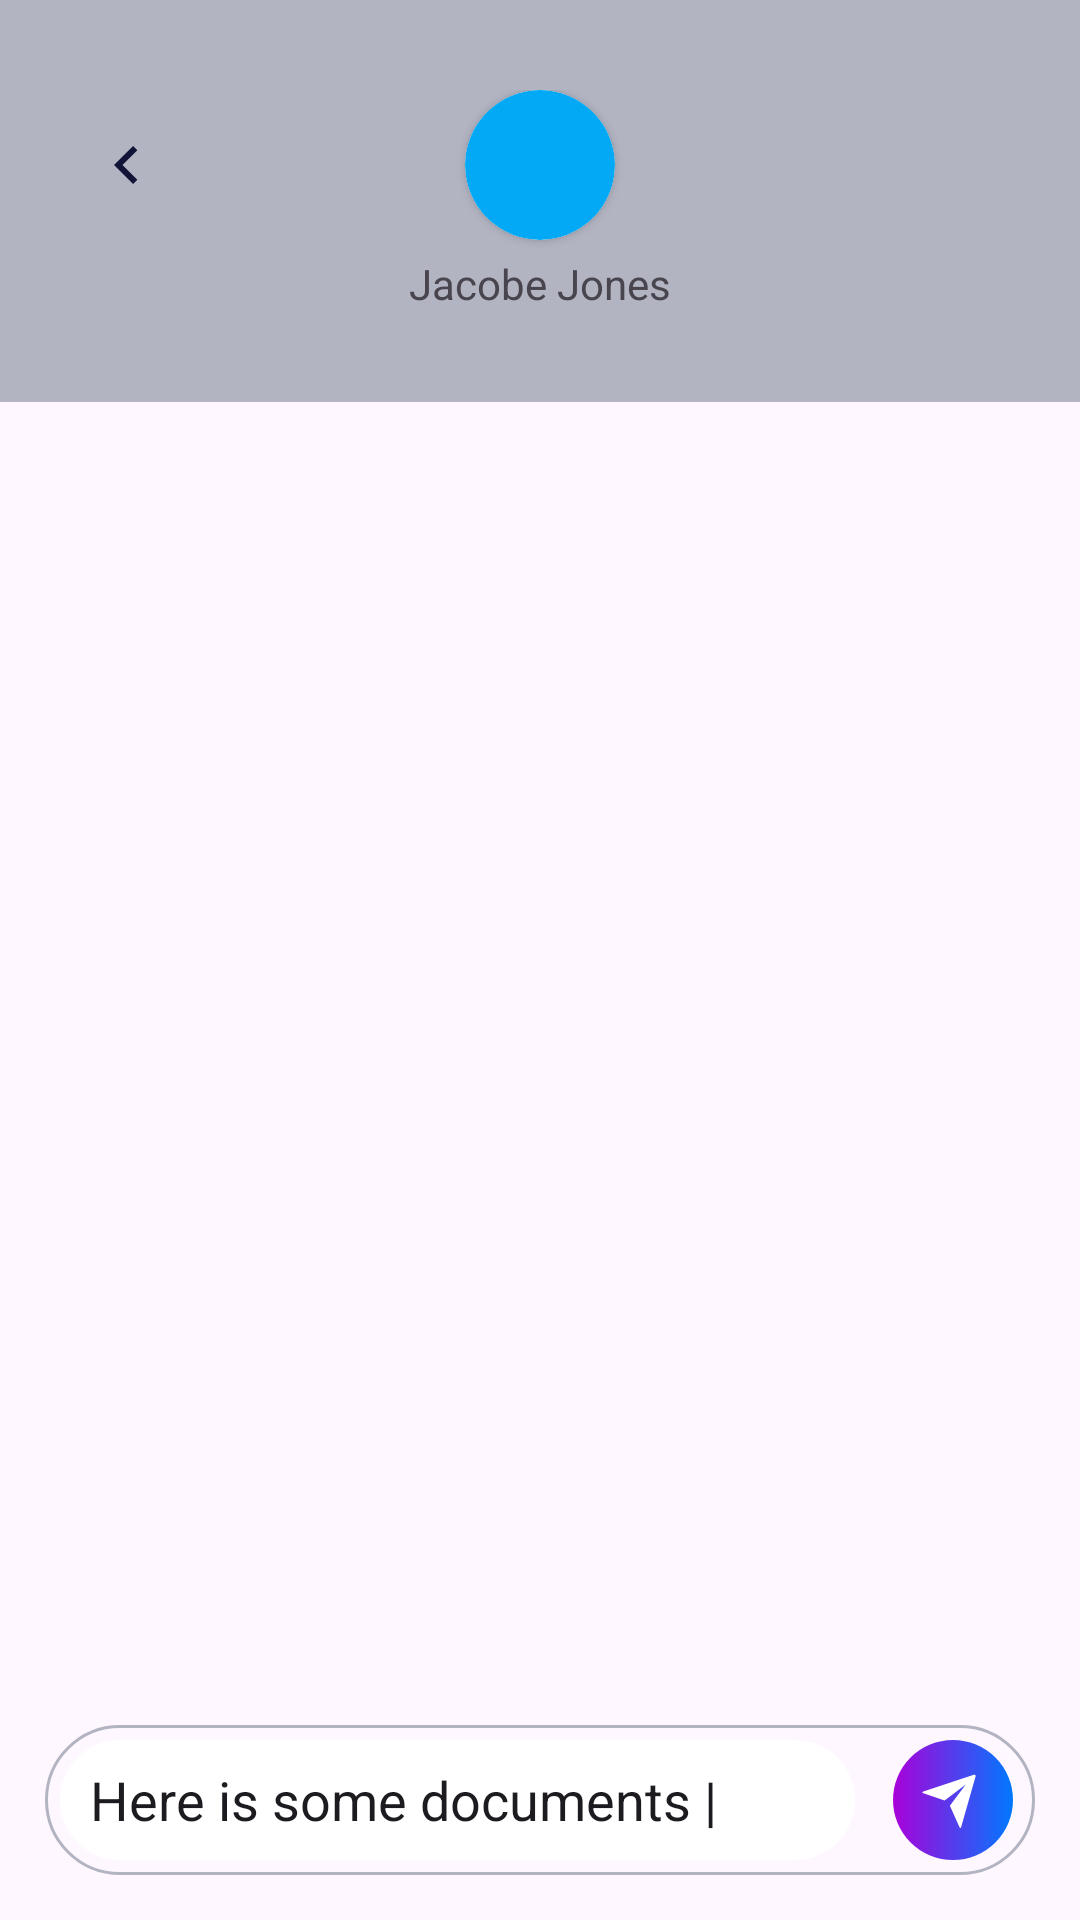

Screen size 1080x1920. Icon name, then its center in pixels as [x,y]:
fab enter: [953,1800]
left chat: [125,165]
